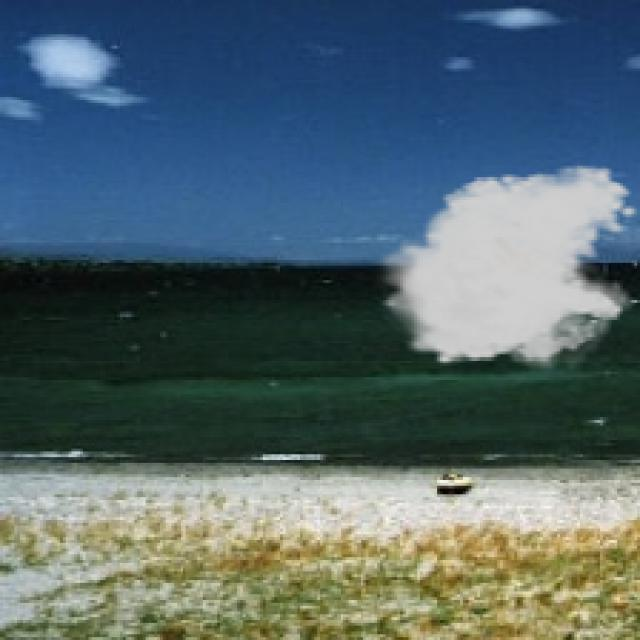Smoke: (372, 163, 637, 380)
